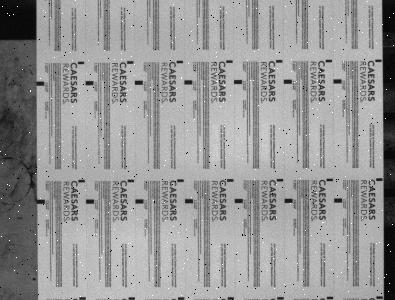qblock: (135, 198, 144, 203), (85, 80, 93, 85), (184, 79, 192, 84), (135, 79, 143, 84), (333, 78, 341, 83), (86, 198, 94, 203), (185, 198, 193, 203), (334, 197, 342, 202), (283, 79, 292, 83), (284, 198, 293, 202), (234, 79, 242, 83), (235, 198, 243, 202), (36, 81, 44, 85), (36, 199, 44, 203)
smallqblock: (226, 59, 233, 63), (178, 296, 185, 300), (277, 296, 284, 300), (177, 59, 183, 63), (277, 178, 284, 181), (79, 297, 86, 300), (228, 297, 235, 300), (128, 297, 135, 300), (376, 296, 383, 299), (127, 60, 134, 63), (276, 59, 283, 62), (325, 59, 332, 62), (375, 59, 382, 62), (177, 179, 184, 182), (227, 179, 234, 182), (326, 178, 333, 181), (376, 178, 383, 181), (78, 61, 84, 64), (128, 179, 134, 182), (327, 296, 333, 299), (79, 179, 85, 182)
